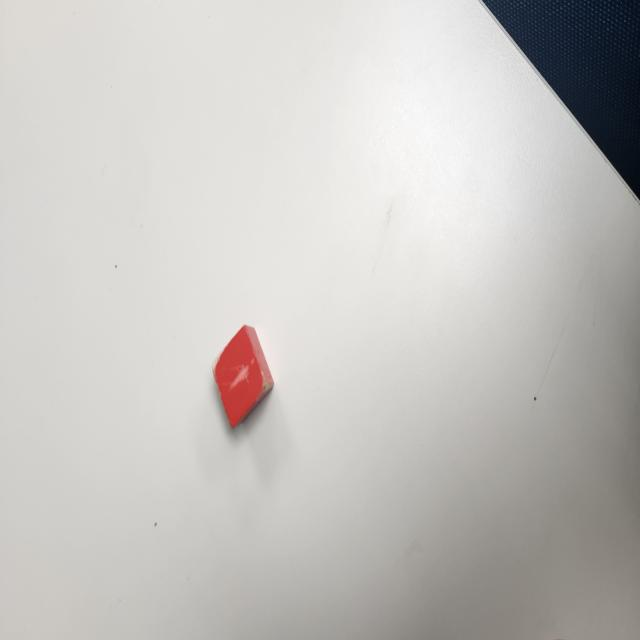broken: (212, 325, 274, 429)
